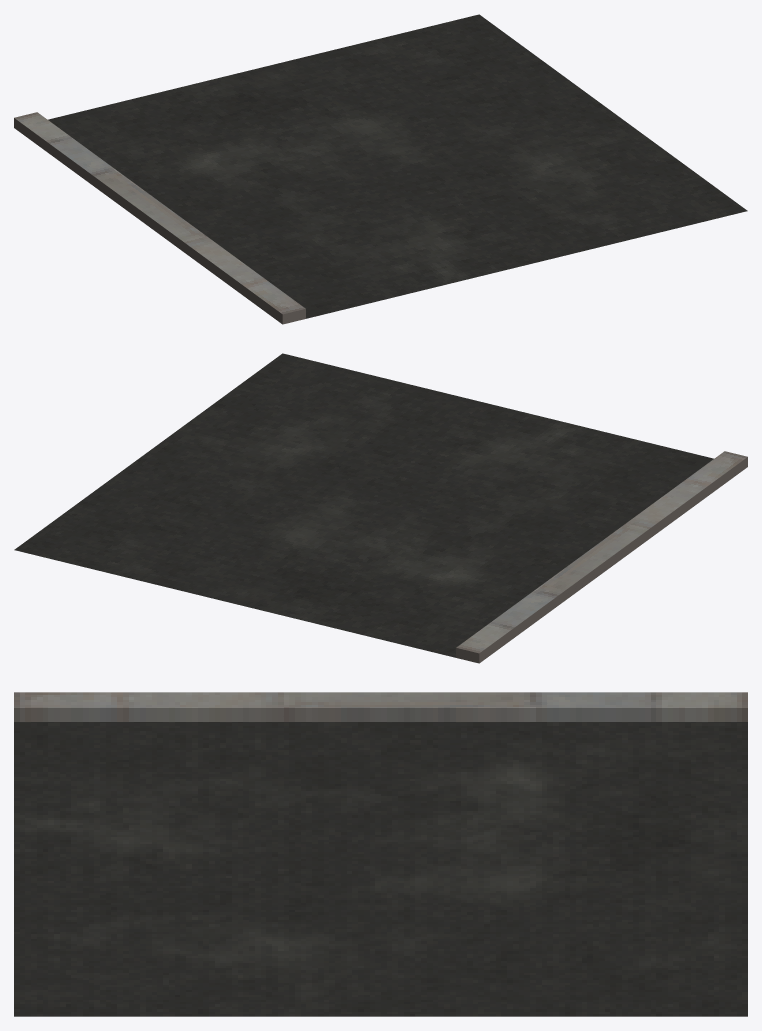
File: Road One Pavement.glb
The picture shows the model from 3 angles, top to bottom: view 1: azimuth 30°, elevation 25°; view 2: azimuth 150°, elevation 25°; view 3: azimuth 270°, elevation 25°; orthographic projection. The views are drawn at different scales.
Visible parts, largest first — view 1: RoadOnePavement; view 2: RoadOnePavement; view 3: RoadOnePavement.
Part boxes in pixels (x1,y1,x2,y2): RoadOnePavement: [14, 14, 747, 324]; RoadOnePavement: [14, 353, 747, 663]; RoadOnePavement: [14, 692, 747, 1016].
Bounding box in the file's own units: 4.8 × 0.1 × 4.8.
2 materials, 2 textured.
